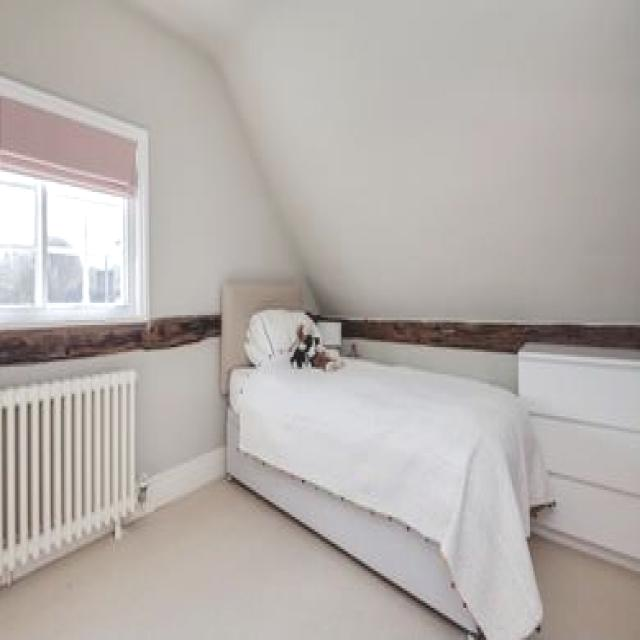bed: (231, 289, 545, 605)
